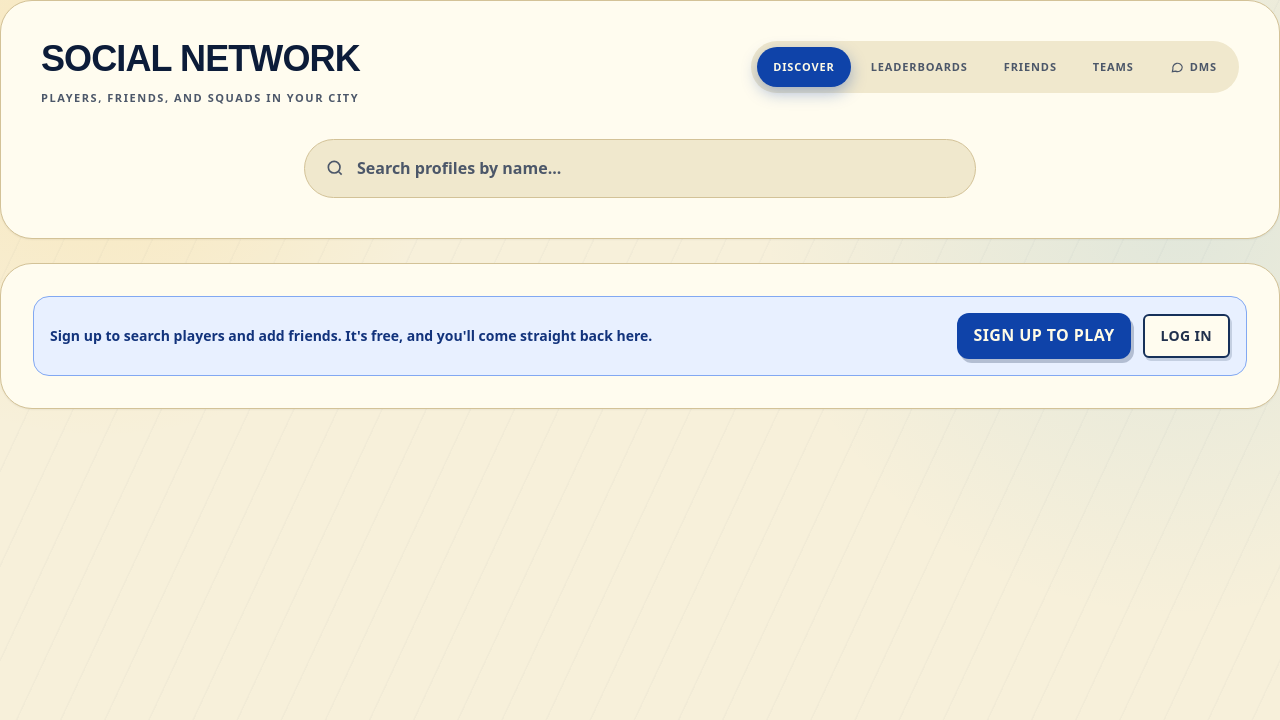
Test: Guest browsing (Gate 9 / TKT-910) › shows the recruitment board to guests and a sign-up prompt on the other Social tabs
This screenshot has width=1280, height=720.
Check: the element with test id "sign-up-prompt" shows "search players", box [124,326,338,345]
Click the tab "Teams".
click(1113, 67)  # box [1077,47,1150,87]
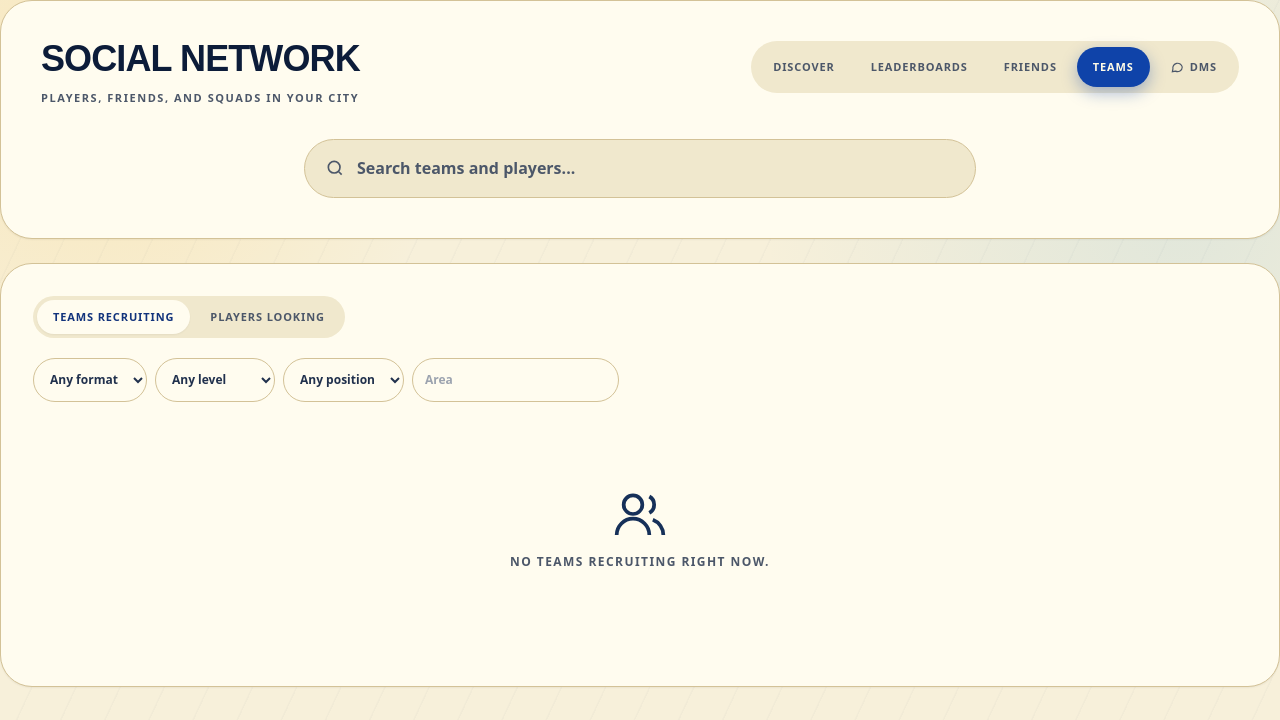
Check: the element with test id "sign-up-prompt" is gone
Check: the text "No teams recruiting right now." is shown, box [510,554,770,570]
